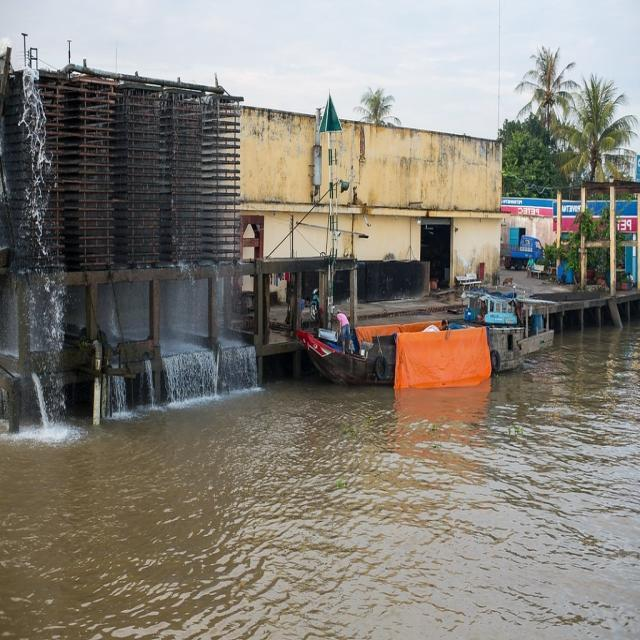boat: (304, 322, 556, 386)
